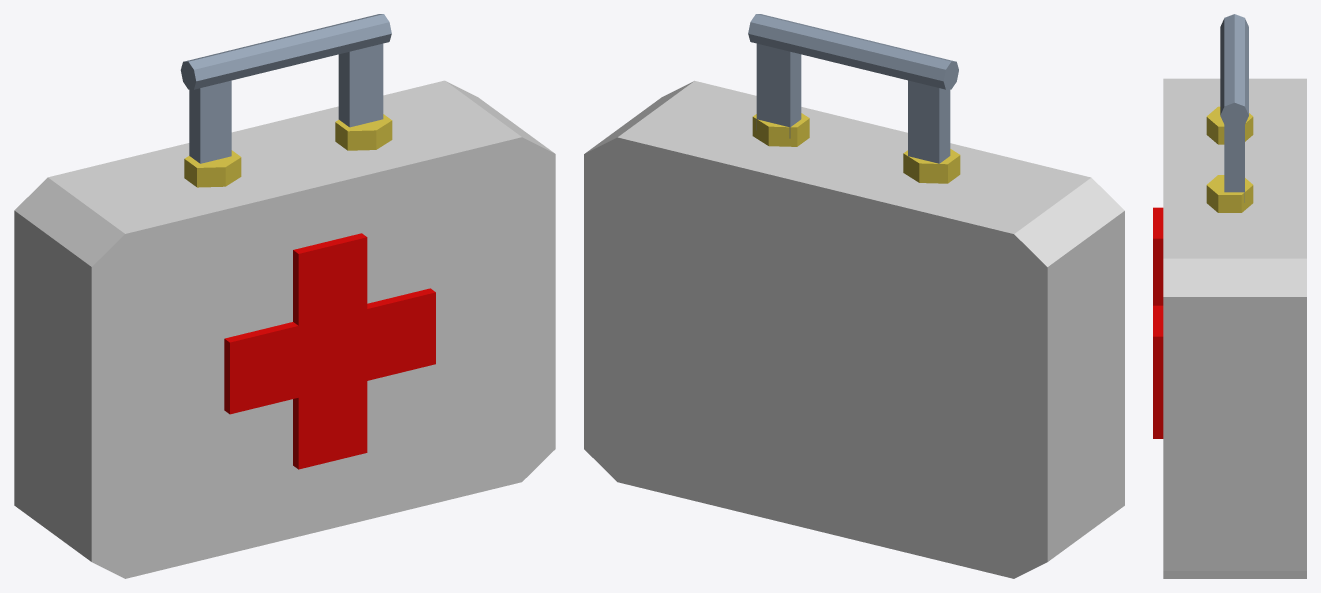
Rendered from Kit_2.fbx.
The picture shows the model from 3 angles, left to right: view 1: azimuth 30°, elevation 25°; view 2: azimuth 150°, elevation 25°; view 3: azimuth 270°, elevation 25°; orthographic projection. The views are drawn at different scales.
Visible parts, largest first — view 1: ITEM2; view 2: ITEM2; view 3: ITEM2.
Boxes of the visible parts, x1,y1,x2,y2 form: ITEM2: [14, 14, 555, 578]; ITEM2: [584, 14, 1124, 578]; ITEM2: [1153, 14, 1306, 578].
Bounding box in the file's own units: 210 × 201 × 65.
